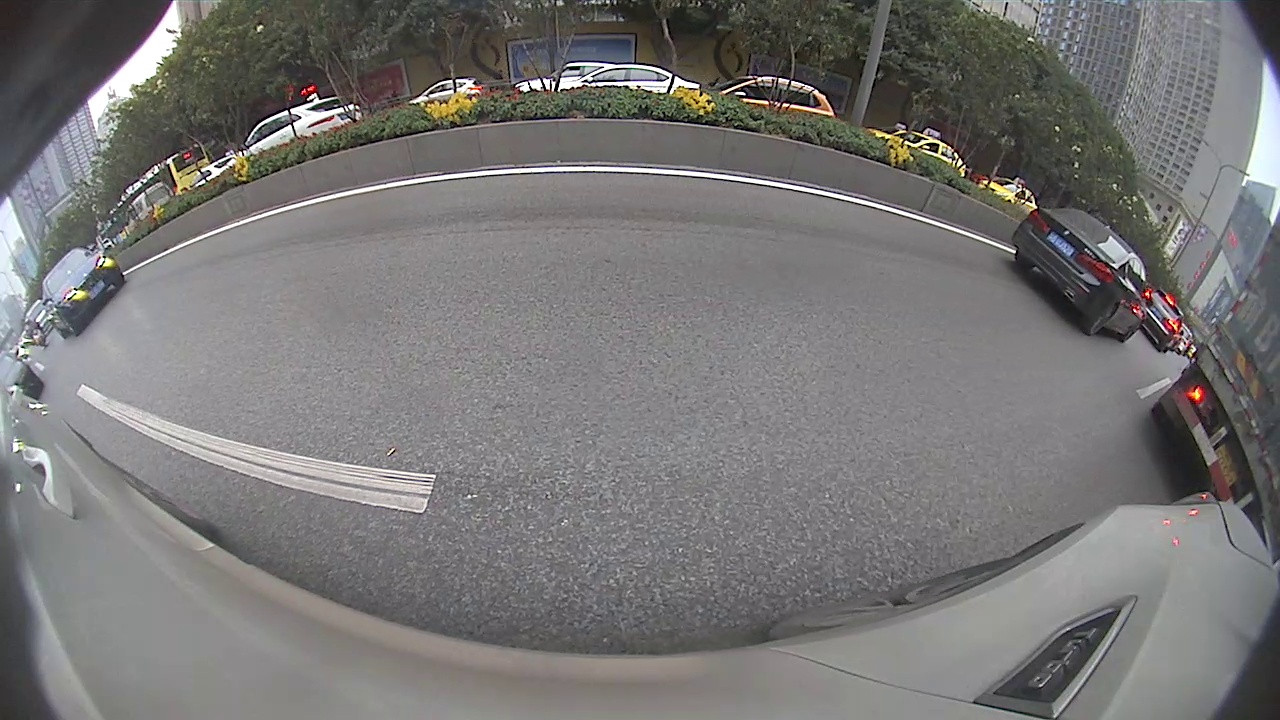car: (405, 157, 525, 230), (656, 150, 719, 196)
front: (516, 187, 525, 206)
person: (1034, 166, 1055, 250), (987, 152, 1005, 231), (1003, 161, 1020, 233)
rear: (475, 191, 492, 219)
